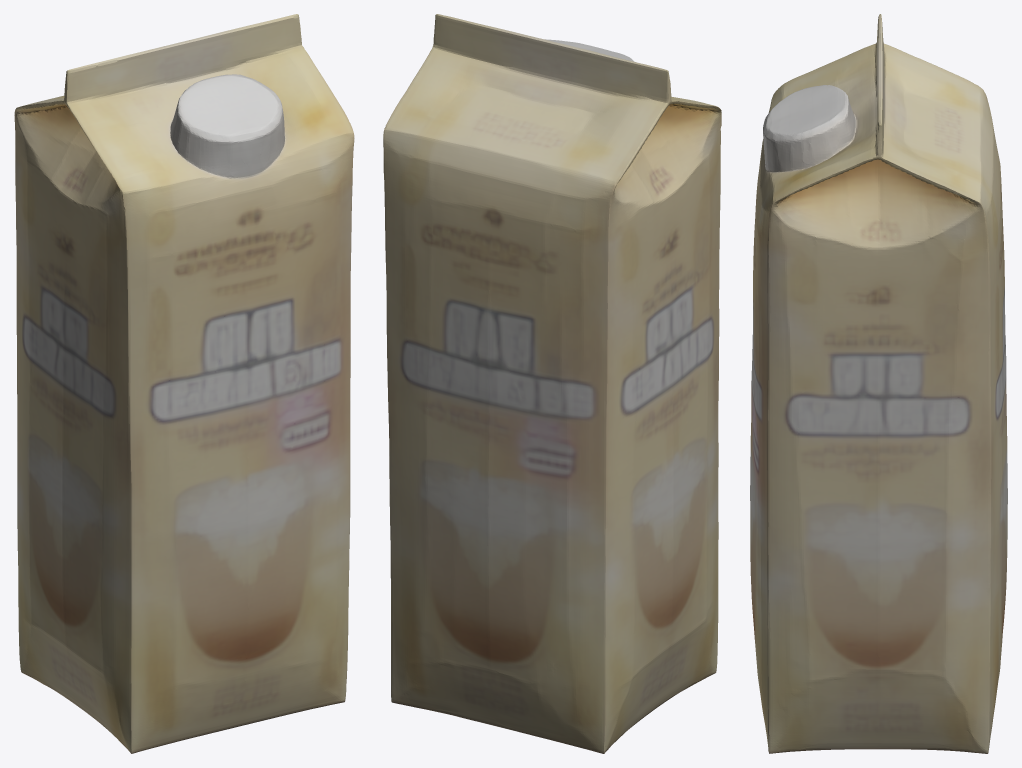
Rendered from carton.glb.
3 renders of one model, left to right at view 1: azimuth 30°, elevation 25°; view 2: azimuth 150°, elevation 25°; view 3: azimuth 270°, elevation 25°, orthographic.
Parts seen in each view (by area): view 1: reconstructed_mesh_unposed_0.glb; view 2: reconstructed_mesh_unposed_0.glb; view 3: reconstructed_mesh_unposed_0.glb.
Boxes of the visible parts, bbox=[...] form: reconstructed_mesh_unposed_0.glb: bbox=[14, 14, 354, 753]; reconstructed_mesh_unposed_0.glb: bbox=[383, 14, 721, 753]; reconstructed_mesh_unposed_0.glb: bbox=[750, 14, 1007, 753].
Size of the model in its own units: 0.3883 by 0.9992 by 0.3677.
